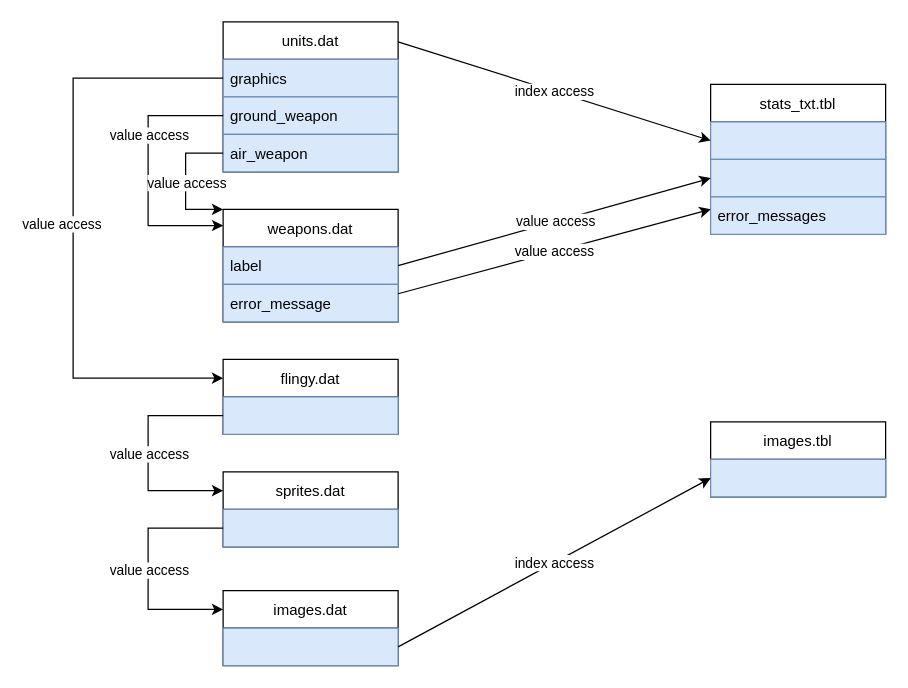
This 908x688 diagram has some shape labels left out. Each missing label, with the centre of its shape:
grp: point 310,646
image: point 797,477
image_file: point 310,527
sprite: point 310,415
units: point 797,140
weapons: point 797,177
